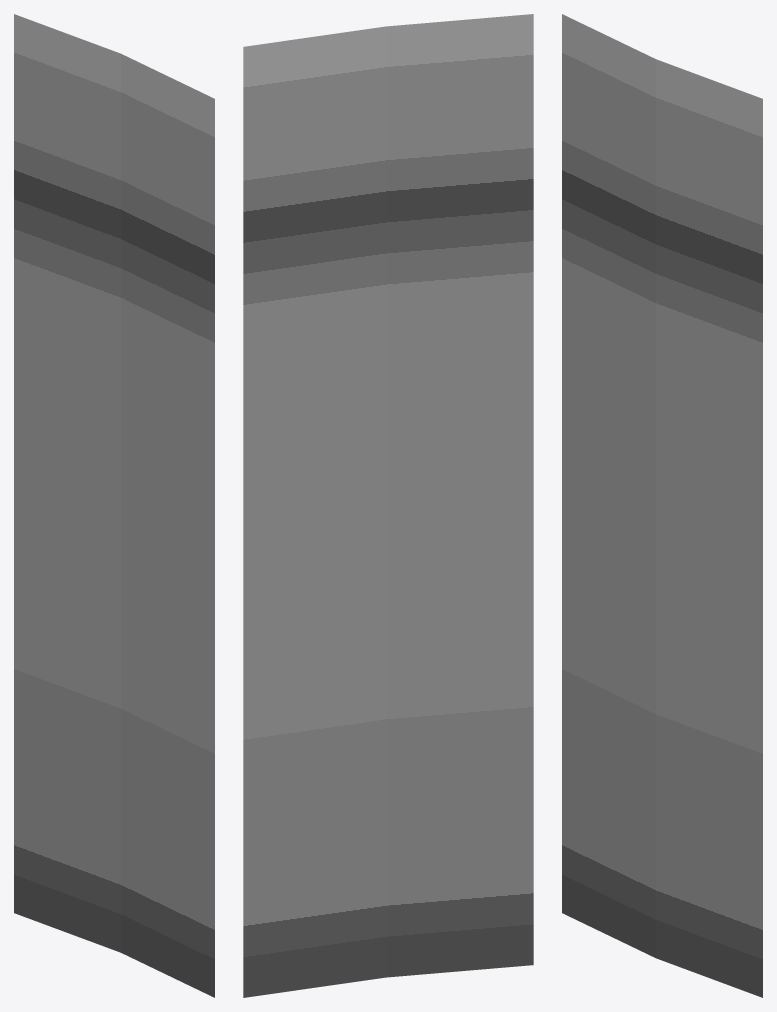
3 renders of one model, left to right at view 1: azimuth 90°, elevation 25°; view 2: azimuth 150°, elevation 25°; view 3: azimuth 270°, elevation 25°, orthographic. The views are drawn at different scales.
Bounding box in the file's own units: 0.6071 × 3 × 0.6071.
Materials: 1 (1 with a texture image).
